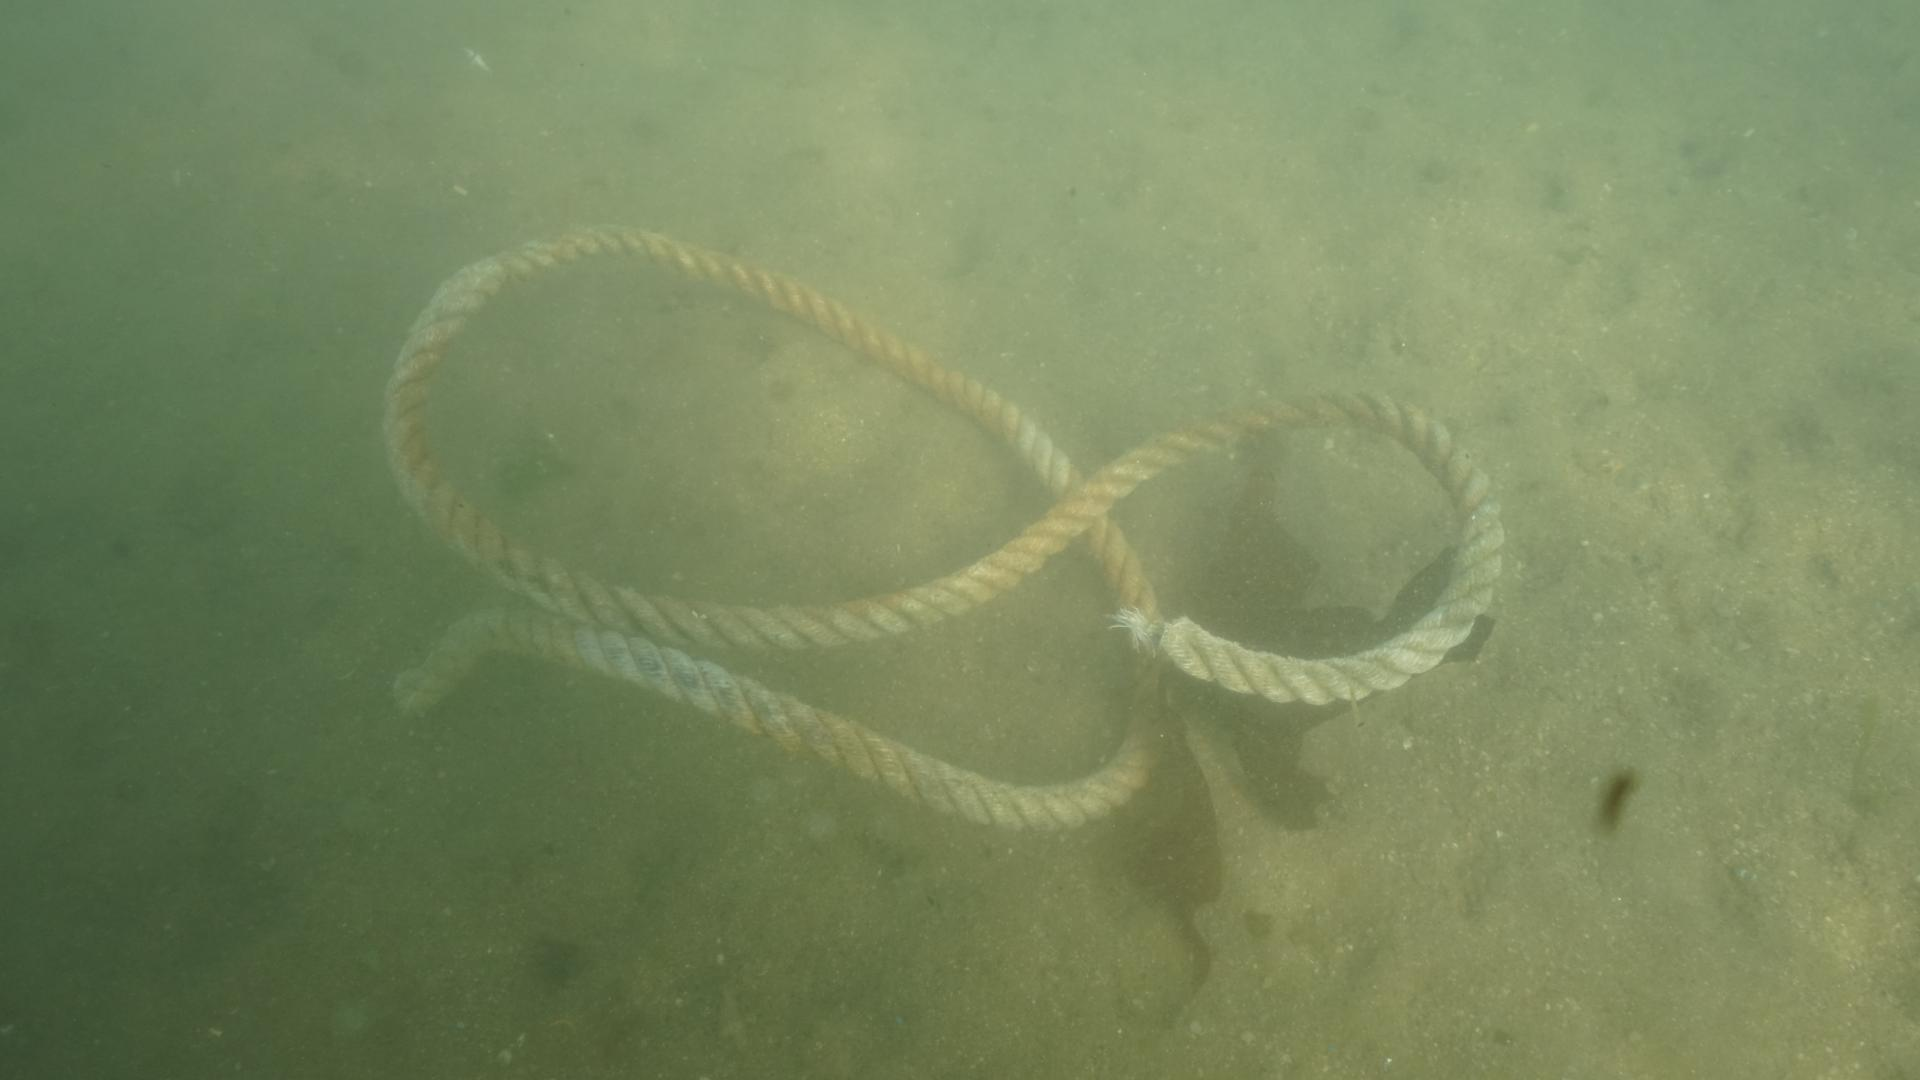rope: (376, 212, 1505, 836)
